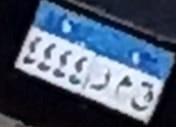4: (65, 51, 91, 85), (33, 40, 57, 71), (49, 46, 73, 75), (24, 33, 44, 65)
ر: (87, 62, 114, 91)
ق: (122, 78, 160, 107)
م: (109, 75, 133, 101)
